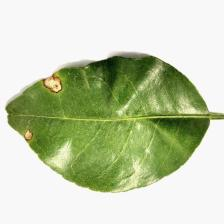canker: (6, 61, 71, 174)
